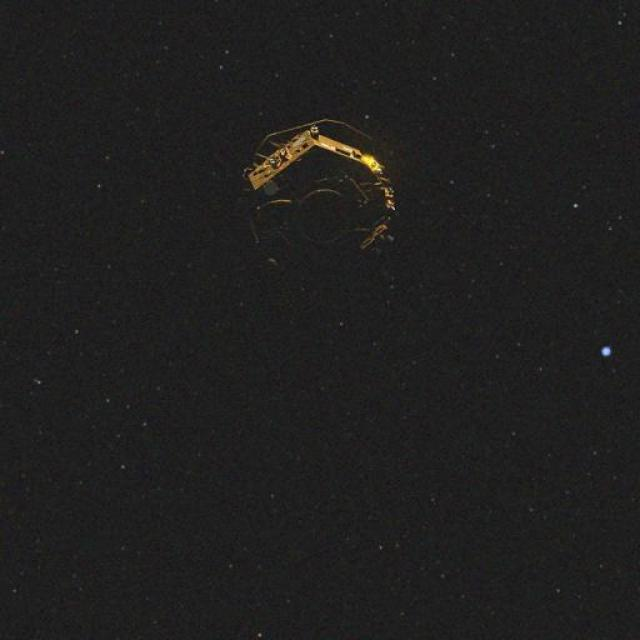lisa_pathfinder: (223, 95, 432, 308)
